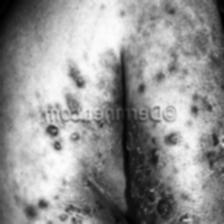Potentially Malignant Skin Tumors: (132, 131, 188, 224), (134, 38, 200, 102), (49, 49, 121, 104), (20, 192, 102, 224), (36, 128, 88, 158), (200, 136, 224, 192)
